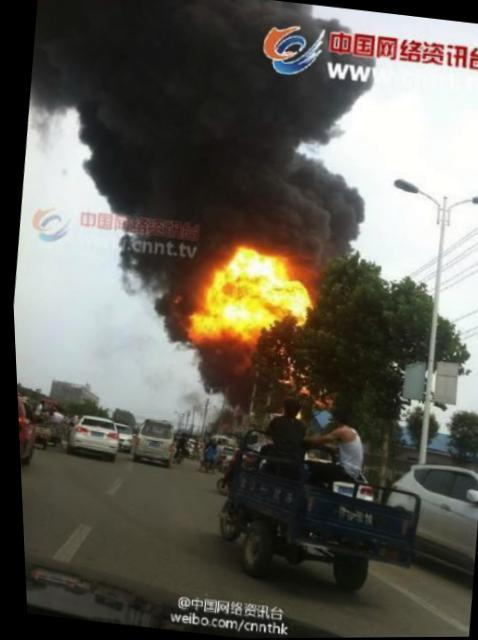fire: (200, 237, 279, 341), (268, 274, 314, 322), (182, 312, 210, 341)
